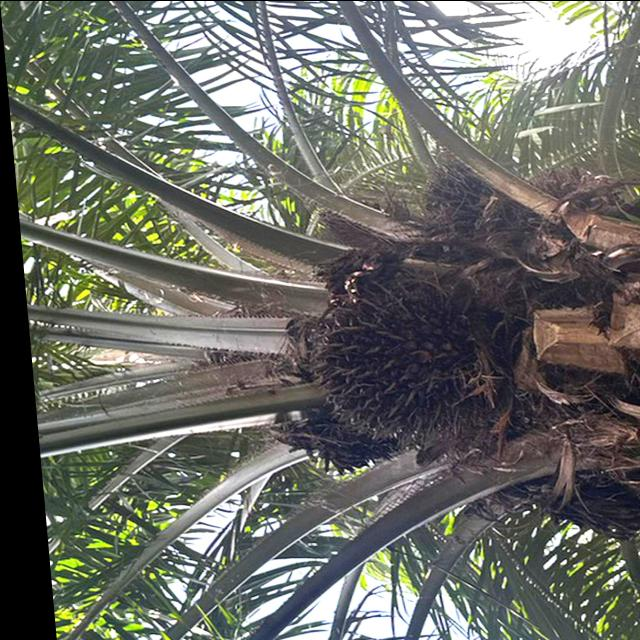ripe: (295, 288, 499, 438)
